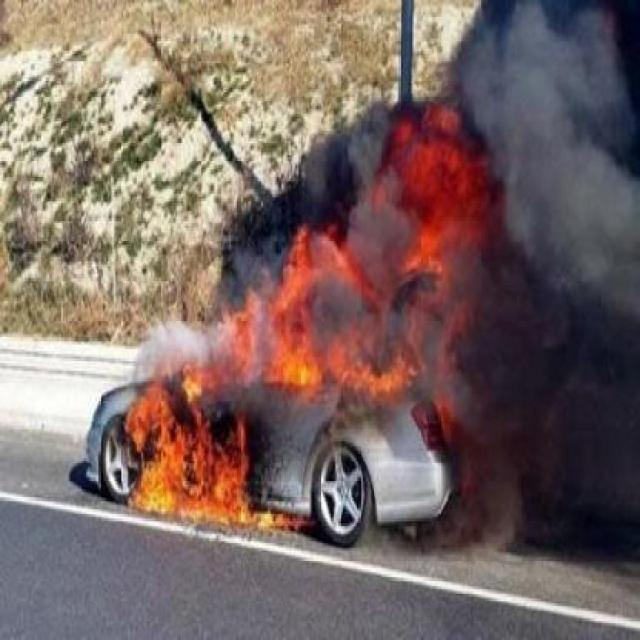Fire: (143, 88, 503, 442), (129, 320, 442, 563)
Smoke: (443, 0, 640, 597), (100, 280, 314, 414)
